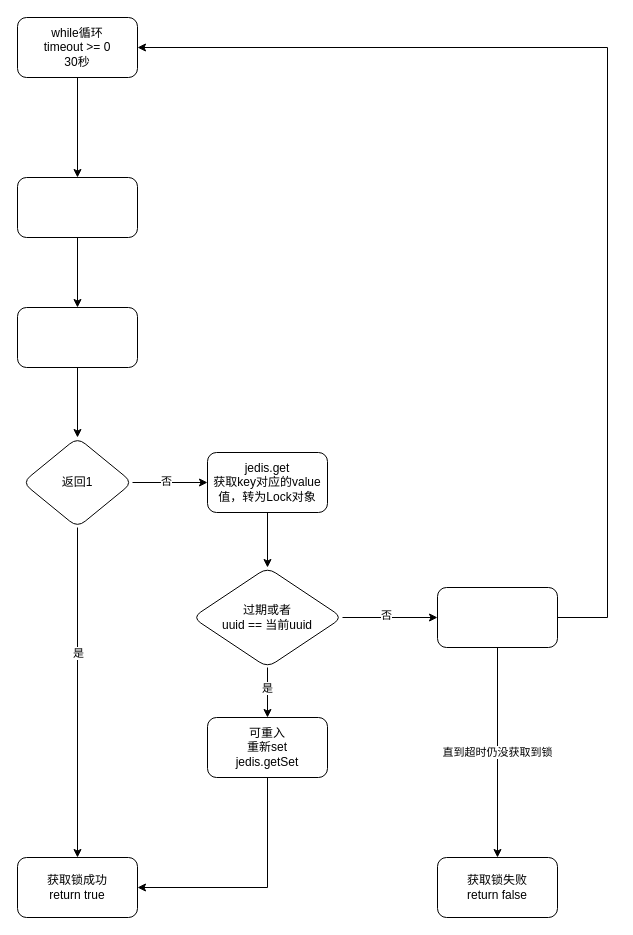
This 633x935 diagram has some shape labels left out. Each missing label, with the box of its shape:
set value值为Lock对象包含 UUID uuid+ expiryTime: (16, 306, 138, 368)
timeout-10秒 线程睡眠10s: (436, 586, 558, 648)
调用jedis的setnx方法: (16, 176, 138, 238)
